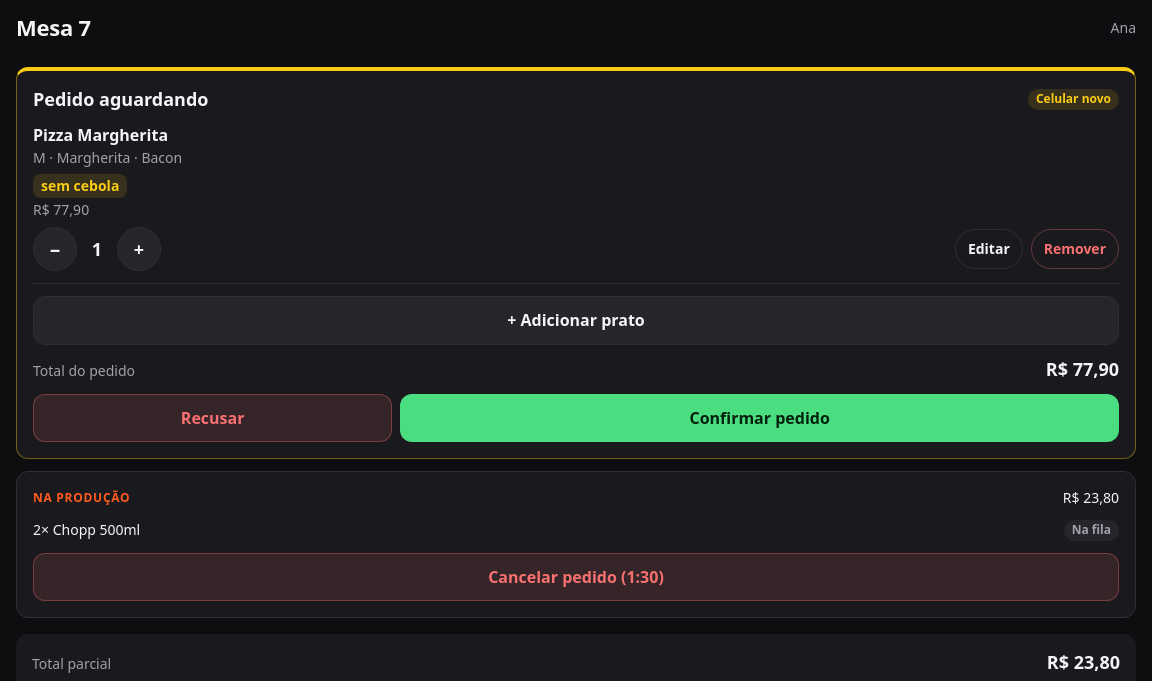
Tela da mesa › andamento da produção › Cancelar pedido pede confirmação
The width and height of the screenshot is (1152, 681).
Click the button "Cancelar pedido (1:30)": (576, 577) [33, 552, 1119, 601]
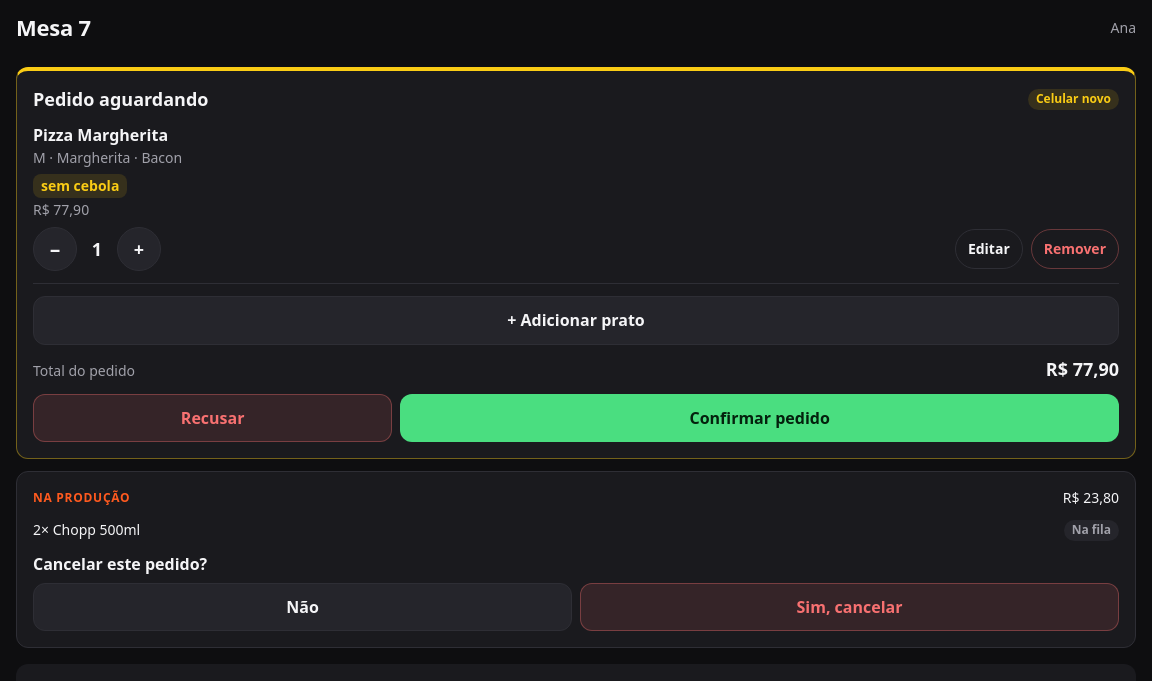
expect the text "Cancelar este pedido?" is shown: met, box [33, 552, 207, 574]
Click the button "Sim, cancelar": (850, 607) [580, 583, 1119, 631]
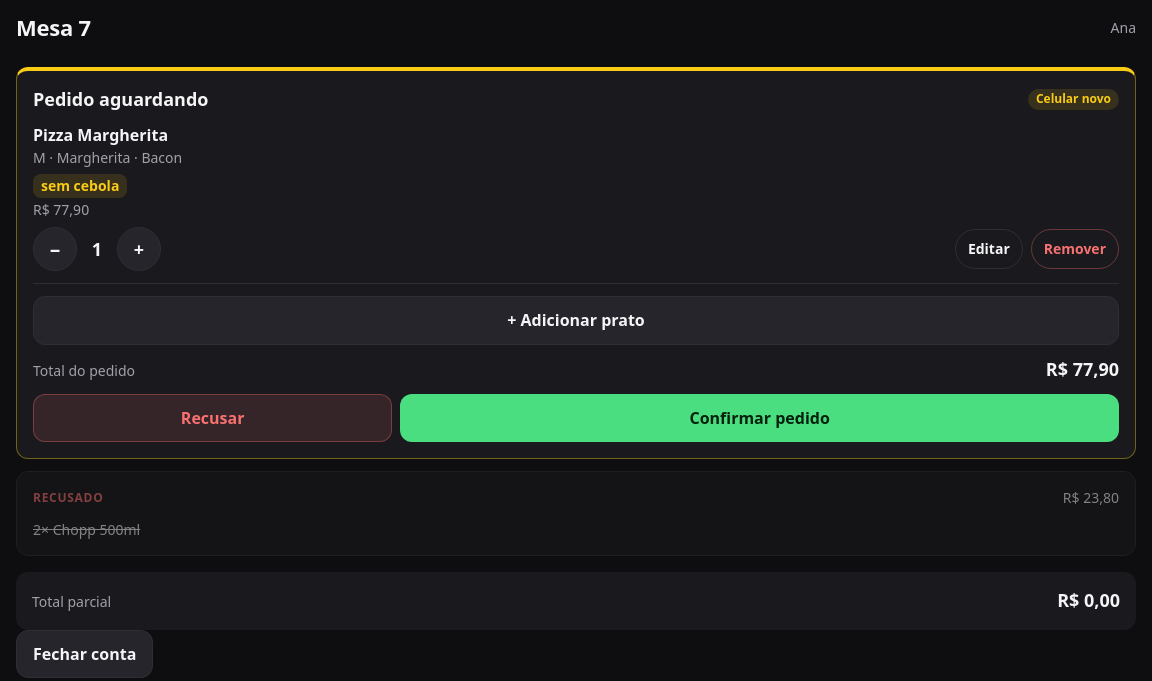
expect the text "Recusado" is shown: met, box [33, 490, 104, 506]
